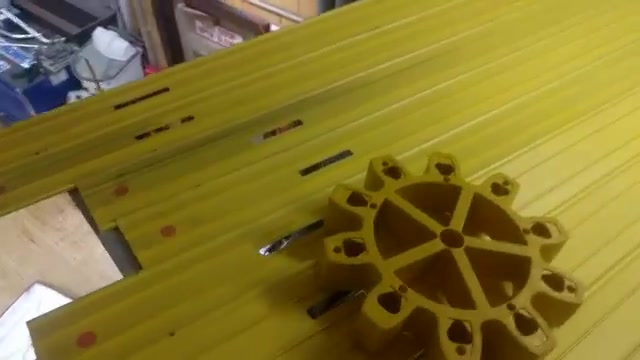gear: (309, 138, 585, 360), (310, 138, 582, 360)
